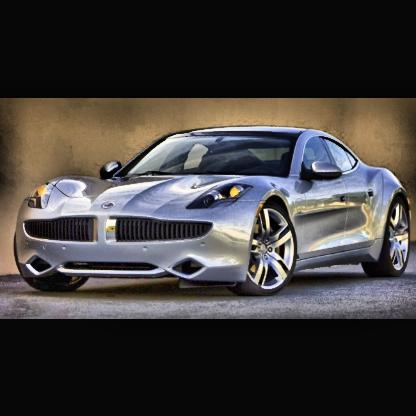Fisker Karma Sedan 2012: (15, 128, 412, 297)
